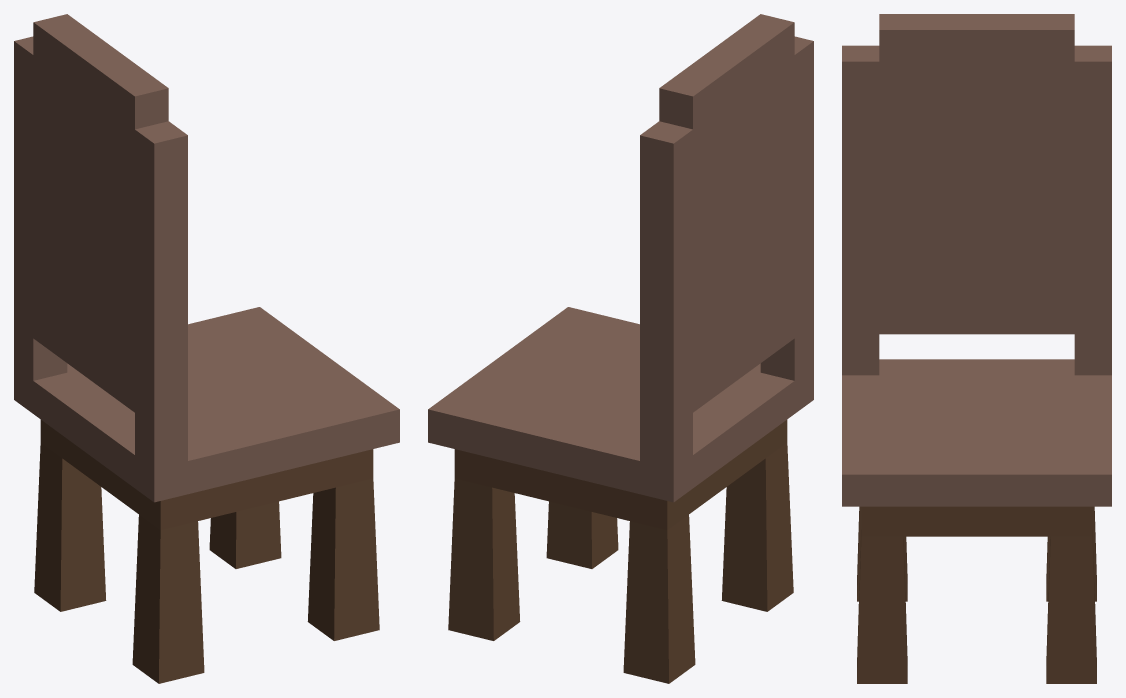
The model's file is prop_chair.glb.
The picture shows the model from 3 angles, left to right: view 1: azimuth 30°, elevation 25°; view 2: azimuth 150°, elevation 25°; view 3: azimuth 270°, elevation 25°; orthographic projection. The views are drawn at different scales.
Parts seen in each view (by area): view 1: Chair_Cube.016; view 2: Chair_Cube.016; view 3: Chair_Cube.016.
Part boxes in pixels (box(x1,y1,x2,y2)): Chair_Cube.016: box(14, 14, 399, 683); Chair_Cube.016: box(428, 14, 813, 683); Chair_Cube.016: box(842, 14, 1111, 683).
Bounding box in the file's own units: 0.4379 × 0.9913 × 0.4326.
